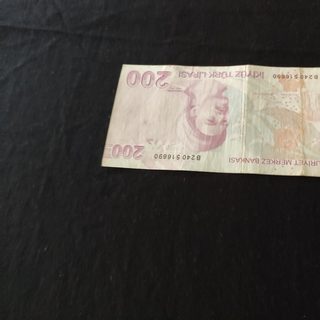200TLBack: (100, 63, 320, 182)
